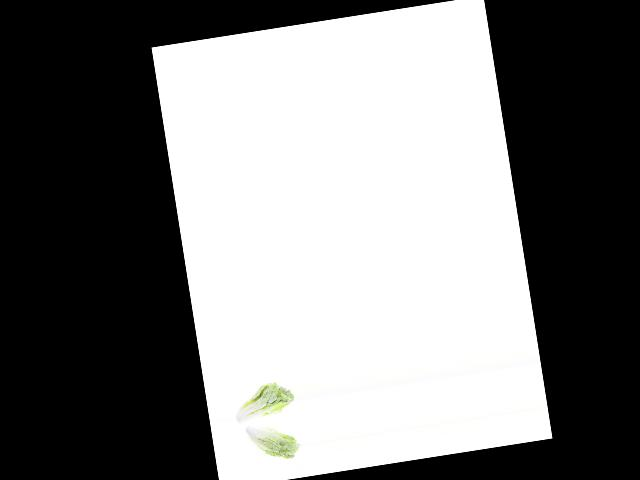lettuce: (238, 418, 301, 466)
